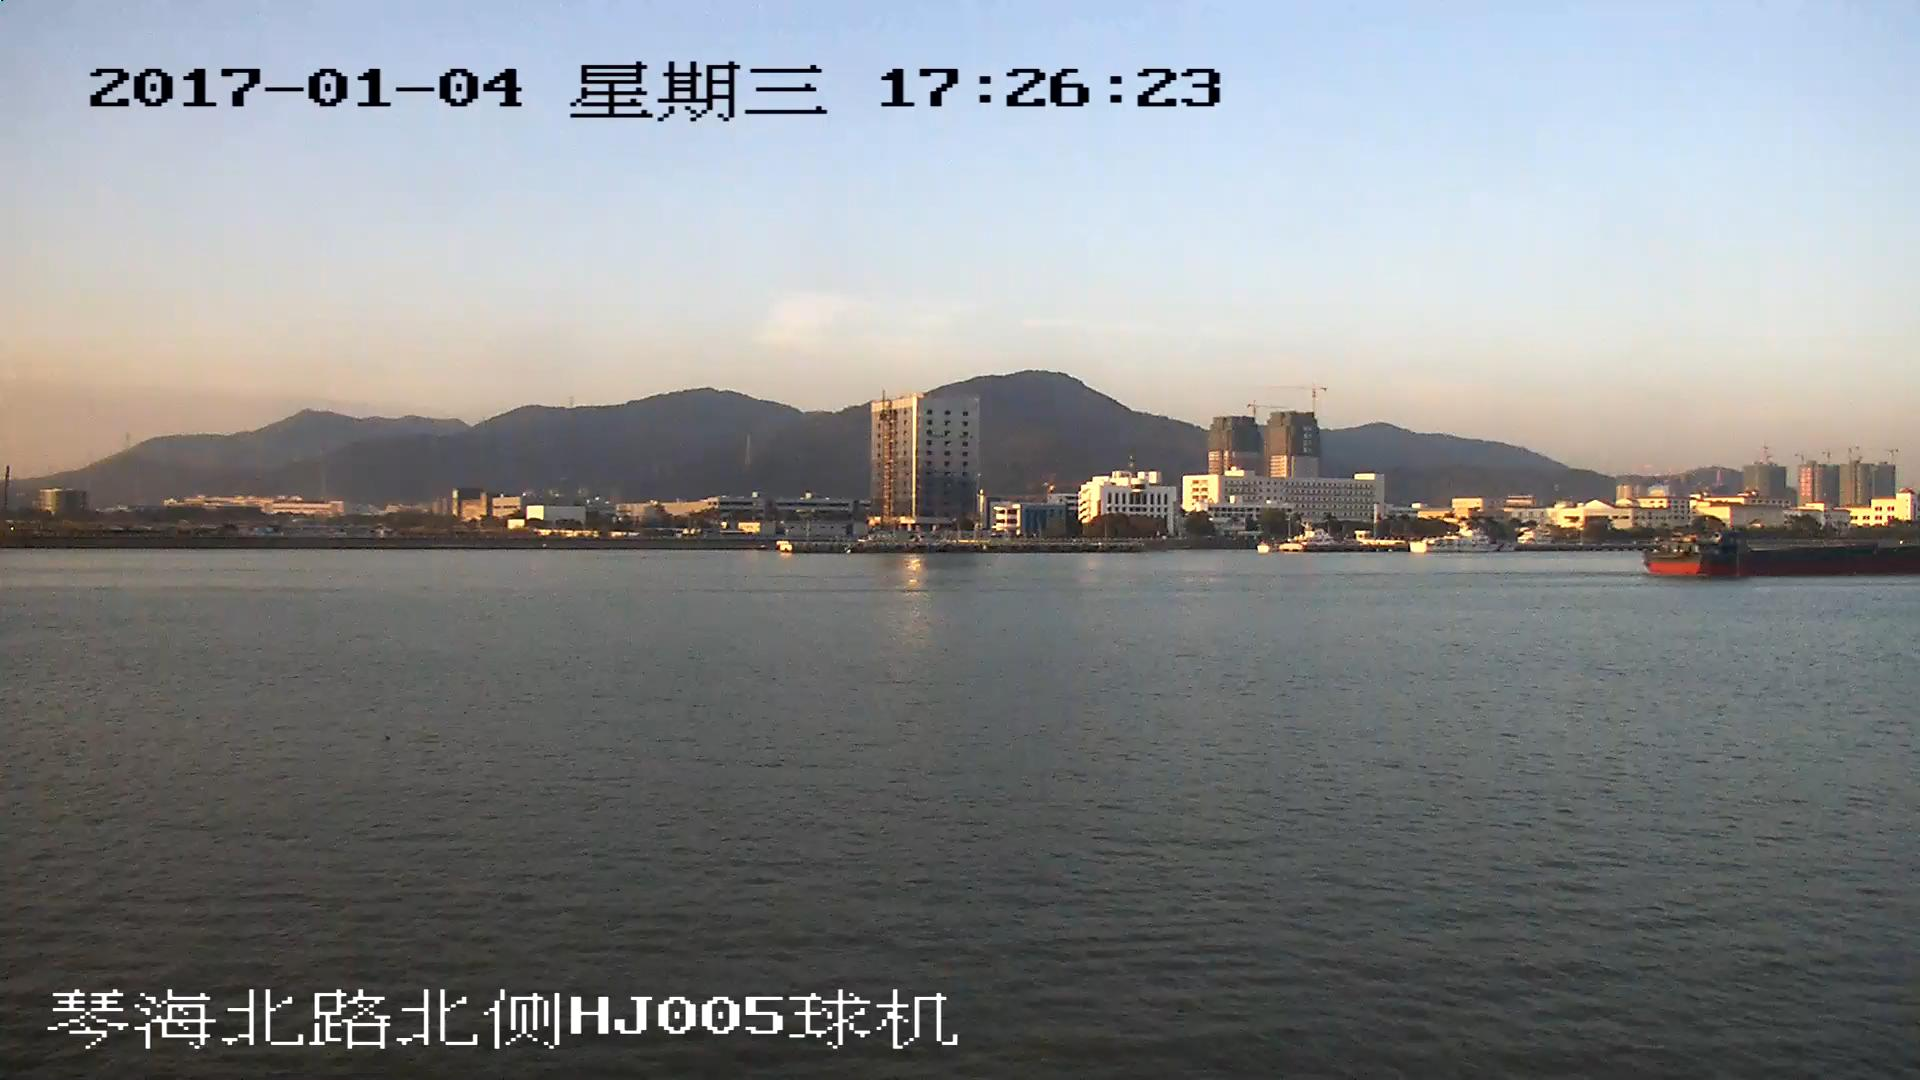general cargo ship: (1644, 524, 1920, 579)
